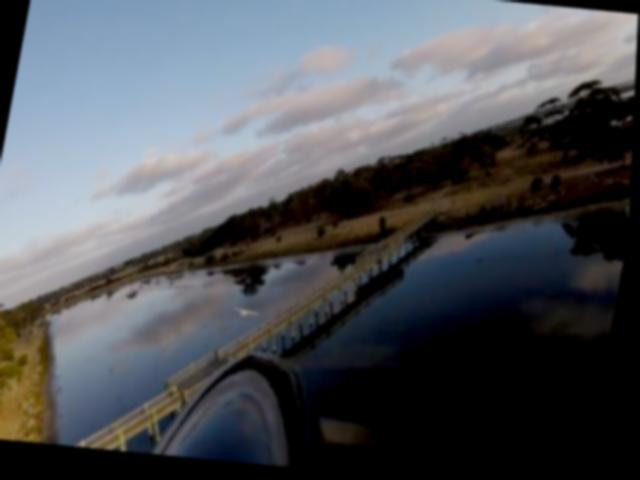uav: (228, 298, 270, 331)
